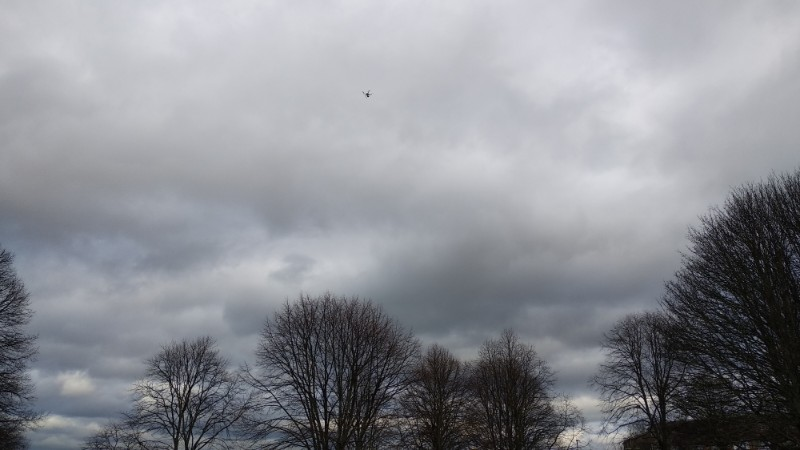drone: (361, 89, 373, 97)
